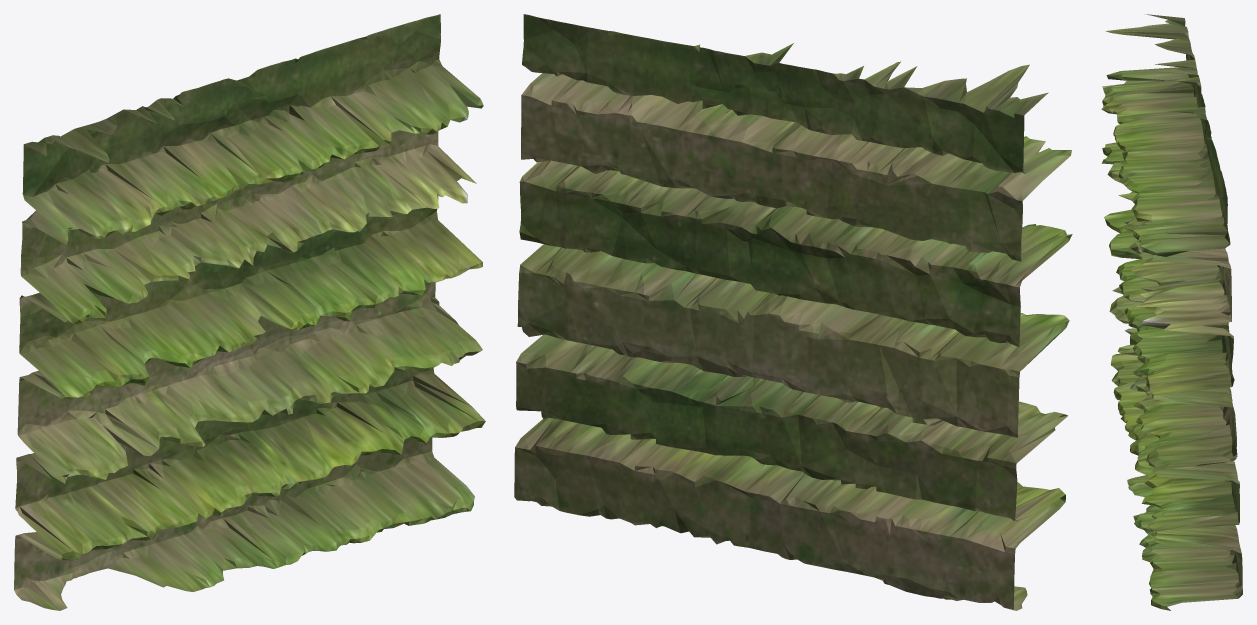
Rendered from map_80_70.obj.
The picture shows the model from 3 angles, left to right: view 1: azimuth 30°, elevation 25°; view 2: azimuth 150°, elevation 25°; view 3: azimuth 270°, elevation 25°; orthographic projection. The views are drawn at different scales.
Visible parts, largest first — view 1: grp1; view 2: grp1; view 3: grp1.
Boxes of the visible parts, <box> form: grp1: <box>14,14,485,610</box>; grp1: <box>514,14,1072,610</box>; grp1: <box>1101,14,1242,610</box>.
Bounding box in the file's own units: 10 × 10 × 3.16.
Materials: 1 (1 with a texture image).
